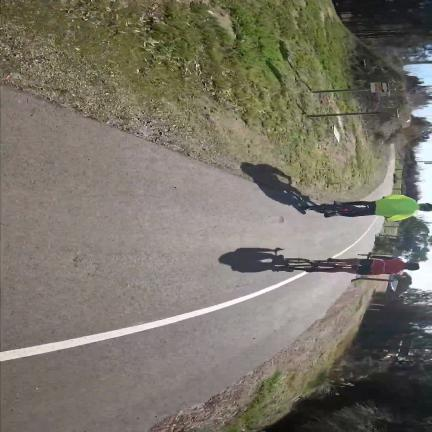Bike_Lane: (0, 87, 380, 432)
